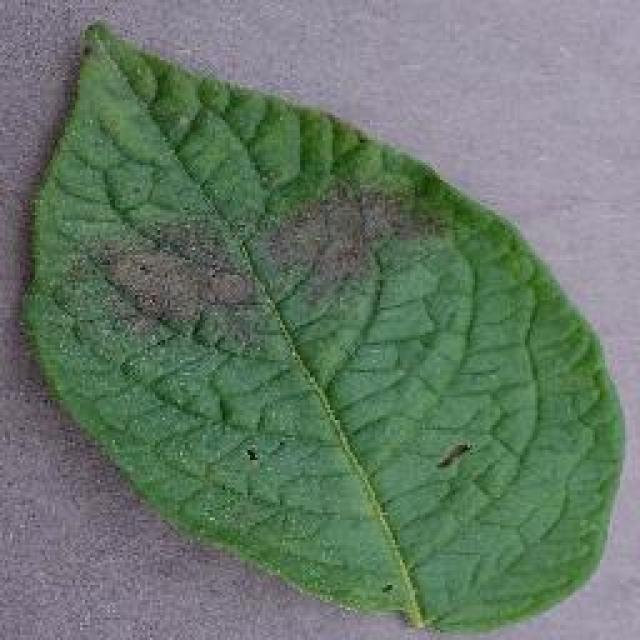Potato: (17, 17, 625, 635)
